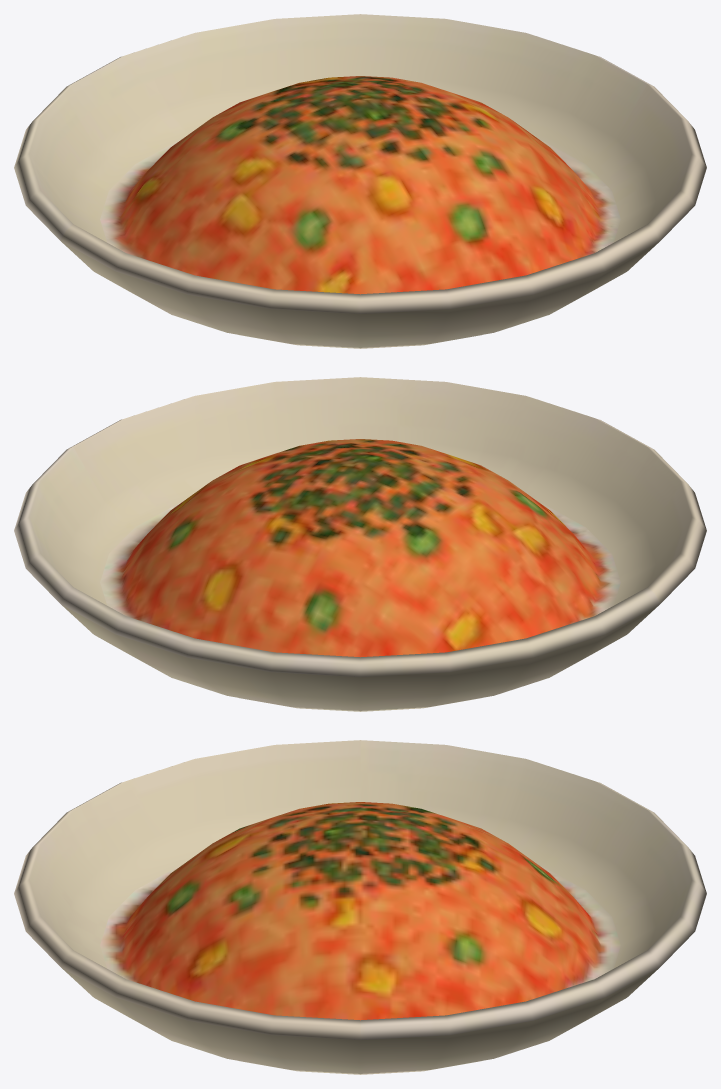
3 renders of one model, top to bottom at view 1: azimuth 30°, elevation 25°; view 2: azimuth 150°, elevation 25°; view 3: azimuth 270°, elevation 25°, orthographic.
Size of the model in its own units: 7.11 by 1.65 by 7.11.
Materials: 1 (1 with a texture image).
